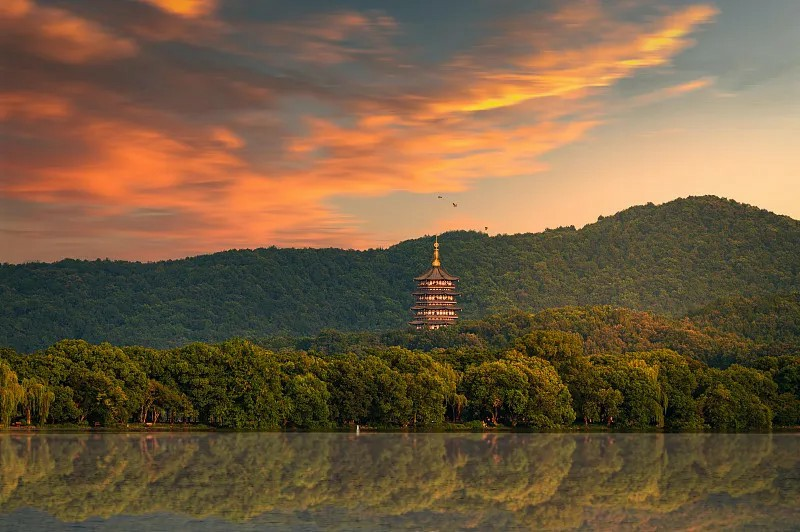Leifeng: (407, 233, 464, 333)
